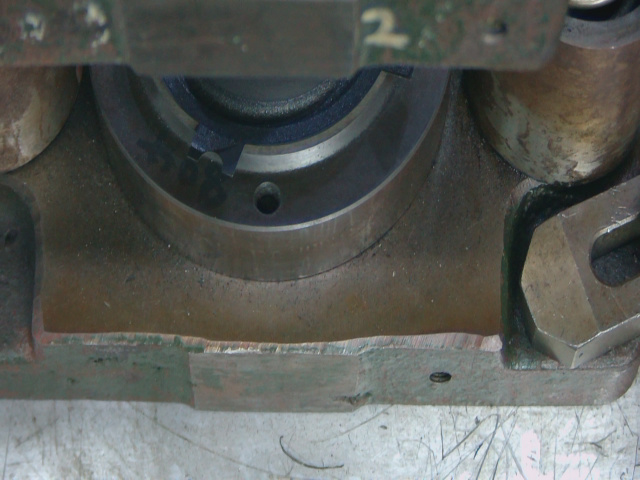NG: (188, 121, 257, 185)
